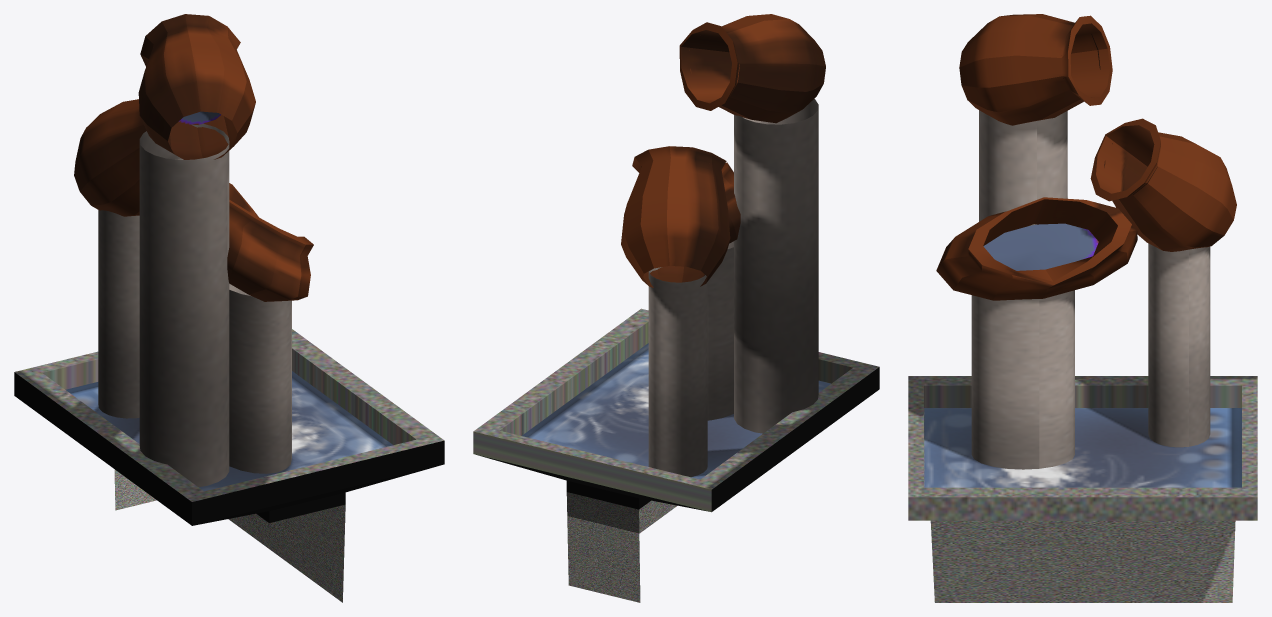
The model's file is Tx_prop_fountain decor_19.fbx.
3 renders of one model, left to right at view 1: azimuth 30°, elevation 25°; view 2: azimuth 150°, elevation 25°; view 3: azimuth 270°, elevation 25°, orthographic. The views are drawn at different scales.
Visible parts, largest first — view 1: Tx_prop_fountain_decor_10; view 2: Tx_prop_fountain_decor_10; view 3: Tx_prop_fountain_decor_10.
Boxes of the visible parts, <box> form: Tx_prop_fountain_decor_10: <box>14,14,444,602</box>; Tx_prop_fountain_decor_10: <box>473,14,879,602</box>; Tx_prop_fountain_decor_10: <box>908,14,1257,602</box>.
Bounding box in the file's own units: 3.49 × 7.33 × 4.25.
Materials: 1 (1 with a texture image).
